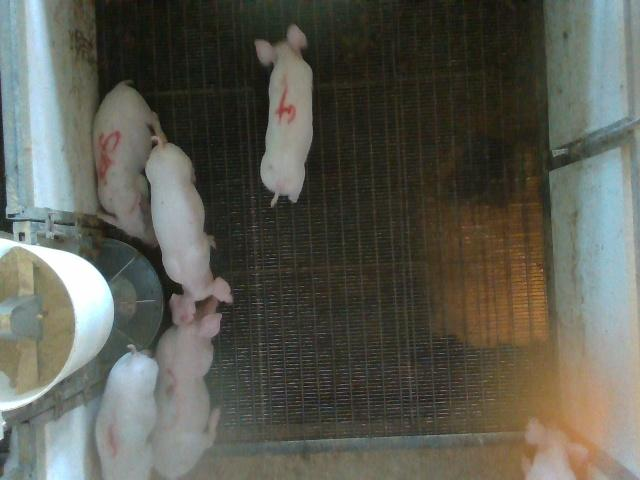pig-1: (96, 345, 159, 479)
pig-3: (151, 299, 221, 478)
pig-4: (255, 24, 312, 206)
pig-5: (92, 81, 162, 246)
